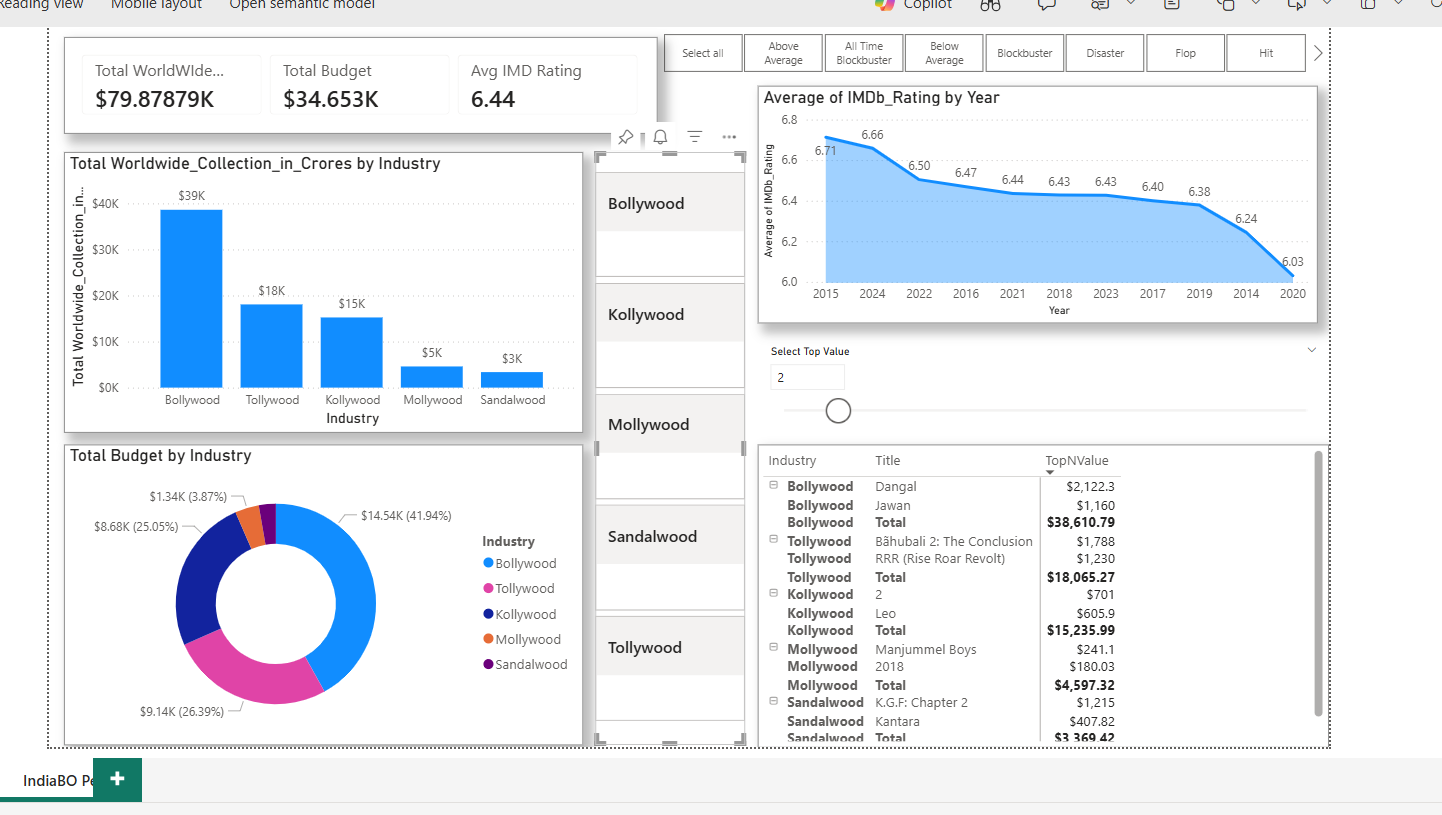

The page's visual inventory and layout, read from the dashboard file:
{"tool":"powerbi","page":{"name":"IndiaBO Performance","canvas":[1280,720],"ordinal":0},"visuals":[{"type":"slicer","fields":{"Values":["Verdict.Verdict"]},"box":[589,0,691.6,51.3],"z":0},{"type":"columnChart","fields":{"Category":["FilmIndustry.Industry"],"Y":["Sum(IndianBO.Worldwide_Collection_in_Crores)"]},"box":[15.4,125,519.5,280.8],"z":1000},{"type":"pivotTable","fields":{"Rows":["IndianBO.Industry","IndianBO.Title"],"Values":["_KPI.TopNValue"]},"box":[709.1,417,571.5,303.3],"z":2000},{"type":"donutChart","fields":{"Y":["_KPI.Total Budget"],"Category":["FilmIndustry.Industry"]},"box":[15.4,417,519.5,300.5],"z":3000},{"type":"cardVisual","fields":{"Data":["_KPI.Total WorldWIde Collection","_KPI.Total Budget","_KPI.Avg IMD Rating"]},"box":[15.4,9.8,593.9,96.9],"z":4000},{"type":"slicer","fields":{"Values":["Select Top Value.Select Top Value"]},"box":[709.1,313.1,571.5,91.3],"z":5000},{"type":"cardVisual","fields":{"Rows":["FilmIndustry.Industry"]},"box":[546.2,125,150.2,592.5],"z":6000},{"type":"areaChart","fields":{"Category":["IndianBO.Year"],"Y":["Avg(IndianBO.IMDb_Rating)"]},"box":[709.1,59,560.2,237.3],"z":7000}]}

Visuals, with their boxes on the page's 1280x720 design canvas (x1, y1, x2, y2). These are canvas units, not pixel positions in the 1442x815 screenshot, which may show the page scaled, cropped or inside an application window:
slicer - Verdict.Verdict: locate(589, 0, 1281, 51)
columnChart - FilmIndustry.Industry x Sum(IndianBO.Worldwide_Collection_in_Crores): locate(15, 125, 535, 406)
pivotTable - IndianBO.Industry x IndianBO.Title: locate(709, 417, 1281, 720)
donutChart - _KPI.Total Budget x FilmIndustry.Industry: locate(15, 417, 535, 718)
cardVisual - _KPI.Total WorldWIde Collection x _KPI.Total Budget: locate(15, 10, 609, 107)
slicer - Select Top Value.Select Top Value: locate(709, 313, 1281, 404)
cardVisual - FilmIndustry.Industry: locate(546, 125, 696, 718)
areaChart - IndianBO.Year x Avg(IndianBO.IMDb_Rating): locate(709, 59, 1269, 296)
